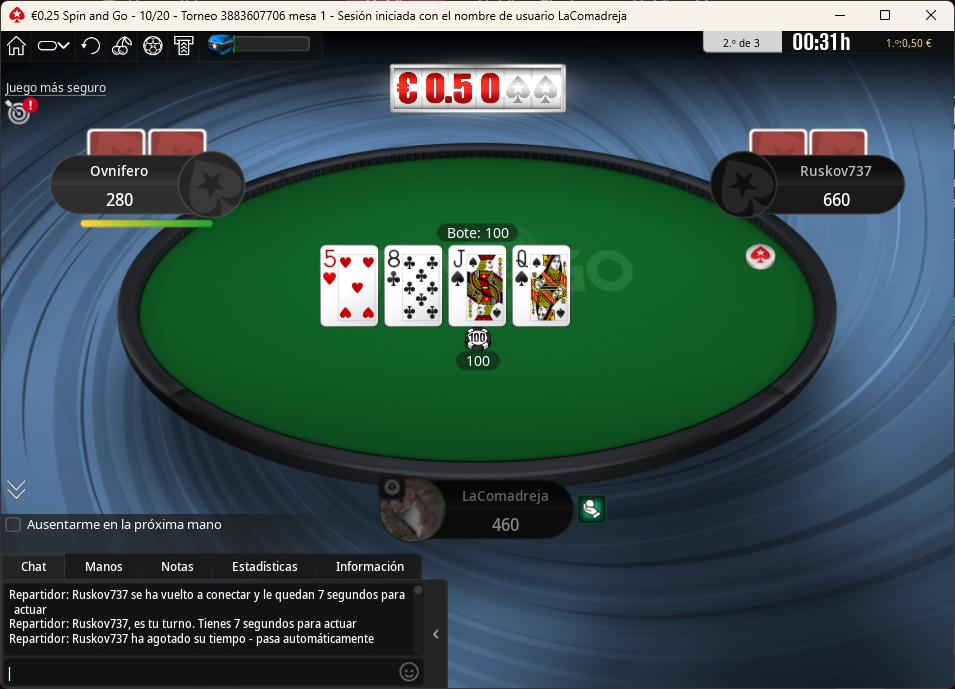Dealer: (746, 241, 778, 272)
HiddenCards: (83, 129, 212, 158), (745, 129, 868, 158)
Player: (48, 152, 245, 216), (716, 156, 911, 219)
PlayerChips: (822, 189, 857, 211), (106, 185, 136, 210)
Pot: (436, 222, 518, 241)
PrincipalPlayer: (372, 474, 570, 542)
PrincipalPlayerChips: (486, 511, 529, 537)
ShowedCards: (320, 243, 577, 332)
ShowedCards1: (319, 245, 385, 331)
ShowedCards2: (384, 246, 446, 330)
ShowedCards3: (446, 244, 509, 331)
ShowedCards4: (511, 243, 572, 329)
SmallBigBlind: (128, 4, 181, 28)
TablePot: (451, 324, 515, 384)
